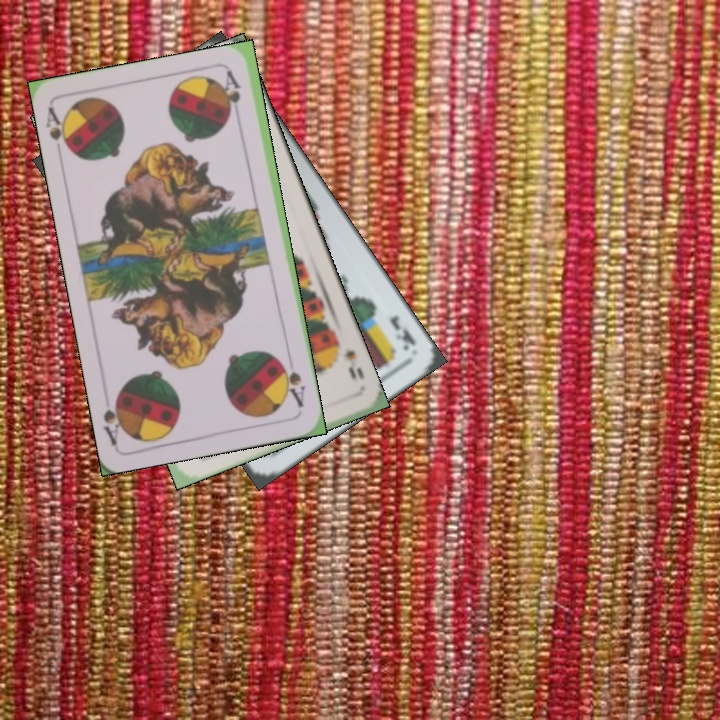EK: (385, 310, 419, 353)
S9: (339, 344, 367, 382)
SA: (42, 103, 76, 161), (276, 355, 308, 410)
